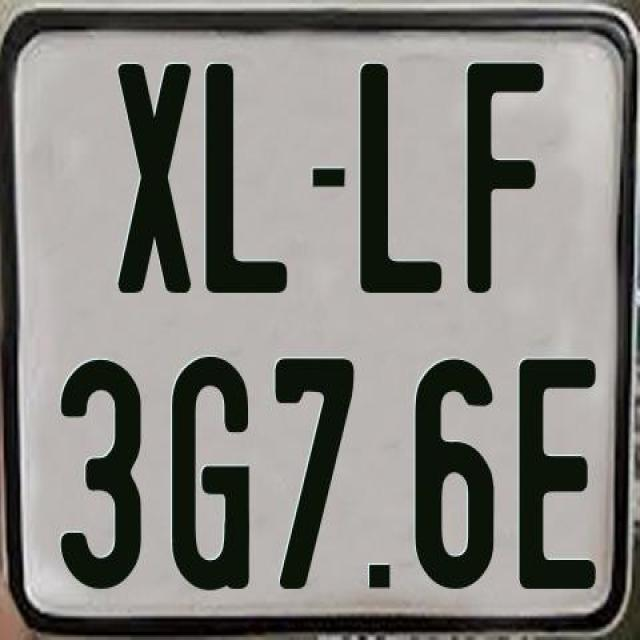3: (59, 358, 142, 594)
6: (410, 355, 498, 592)
7: (274, 358, 358, 596)
E: (516, 354, 596, 594)
F: (467, 59, 545, 293)
G: (170, 354, 250, 590)
L: (358, 61, 446, 300), (204, 64, 292, 301)
X: (118, 61, 198, 293)
